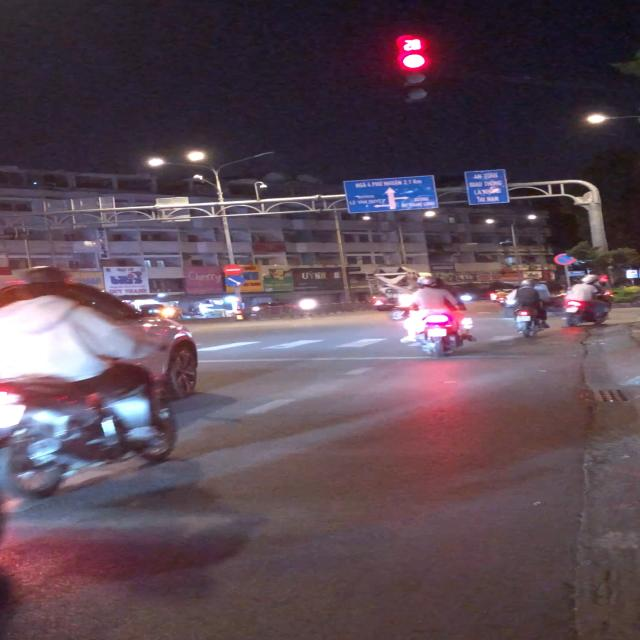Bien bao cam di nguoc chieu: (222, 263, 246, 275)
Bien bao huong phai di vong chuong ngai vat: (224, 276, 245, 287)
